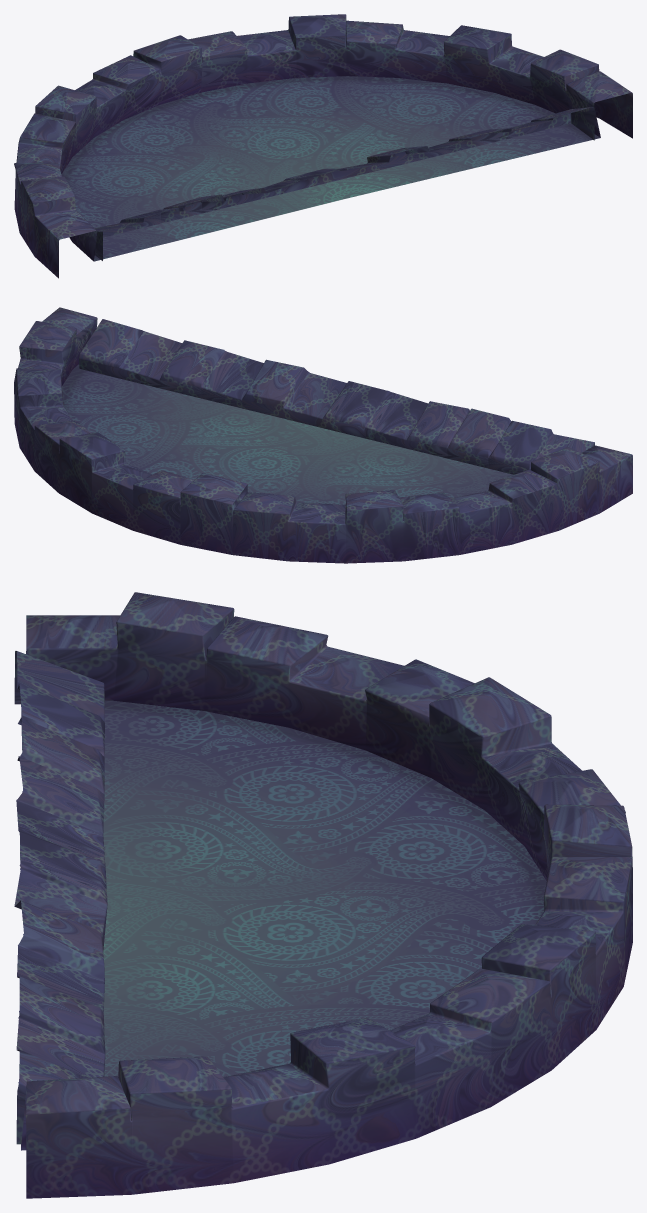
The model's file is Semicircle.dae.
3 views of the same model, one above another, from view 1: azimuth 30°, elevation 25°; view 2: azimuth 150°, elevation 25°; view 3: azimuth 270°, elevation 25° (orthographic). The views are drawn at different scales.
Visible parts, largest first — view 1: Semicircle; view 2: Semicircle; view 3: Semicircle.
Part boxes in pixels (x1,y1,x2,y2): Semicircle: (14,14,632,278); Semicircle: (14,307,632,563); Semicircle: (14,592,632,1198).
Size of what is drawn, in the model's own units: 1500 by 152 by 765.
